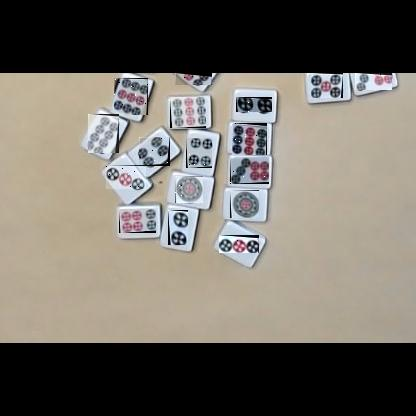1p: (230, 190, 259, 218), (175, 176, 203, 203)
2p: (168, 210, 188, 245), (236, 97, 272, 112)
3p: (106, 165, 146, 189), (219, 235, 259, 253)
4p: (139, 137, 170, 166), (186, 138, 212, 168)
5p: (311, 73, 343, 98)
6p: (119, 209, 156, 233)
7p: (230, 157, 269, 184), (355, 73, 392, 90)
8p: (88, 114, 119, 153)
9p: (114, 78, 148, 115), (232, 123, 267, 155), (170, 97, 206, 128), (175, 73, 212, 85)
